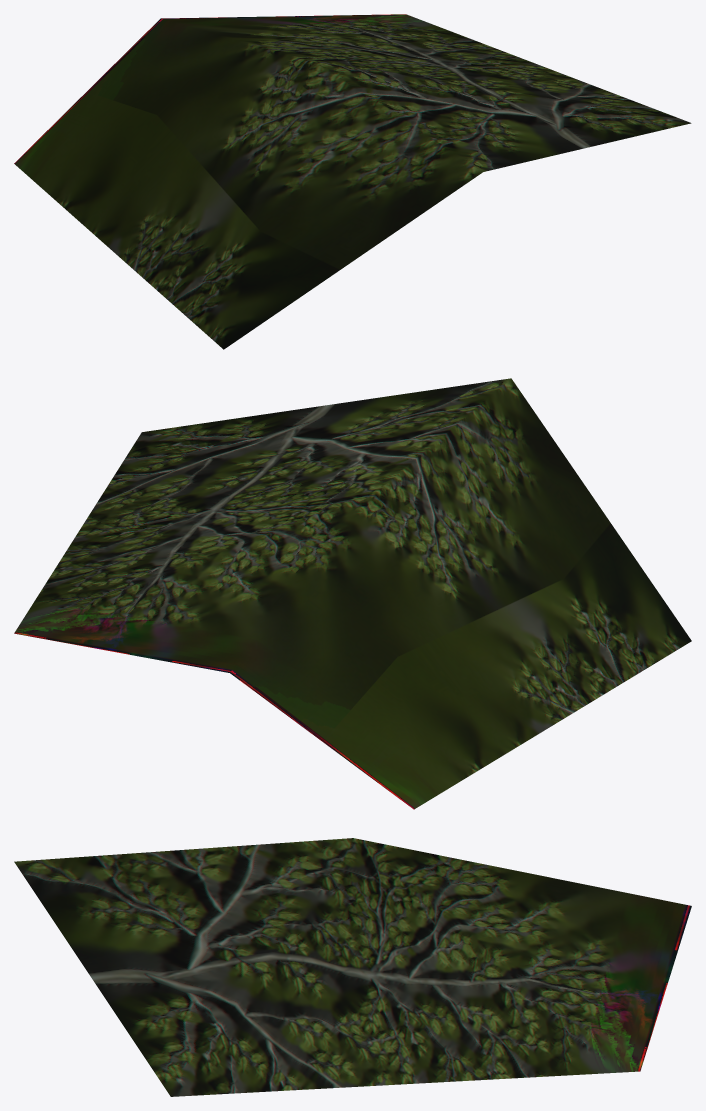
The model's file is Big_Beech_branch .fbx.
3 views of the same model, one above another, from view 1: azimuth 30°, elevation 25°; view 2: azimuth 150°, elevation 25°; view 3: azimuth 270°, elevation 25° (orthographic). The views are drawn at different scales.
Parts seen in each view (by area): view 1: Plane; view 2: Plane; view 3: Plane.
Boxes of the visible parts, <box> form: Plane: <box>14,14,691,349</box>; Plane: <box>14,378,691,809</box>; Plane: <box>14,838,691,1096</box>.
Size of the model in its own units: 2.01 by 0.6575 by 2.08.
